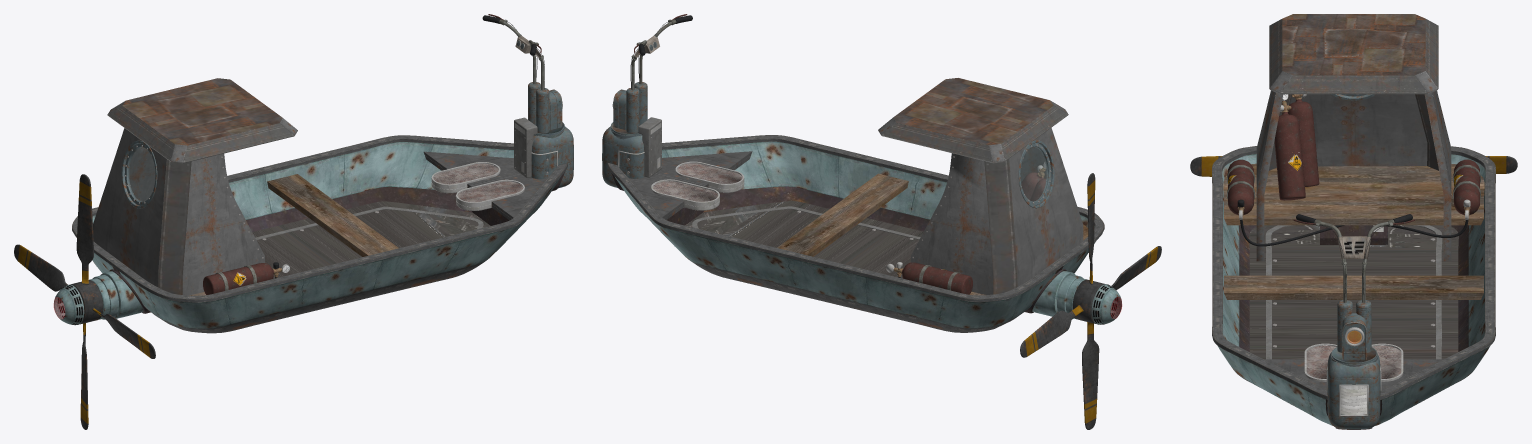
File: cargo_flying_boat.glb
3 renders of one model, left to right at view 1: azimuth 30°, elevation 25°; view 2: azimuth 150°, elevation 25°; view 3: azimuth 270°, elevation 25°, orthographic. The views are drawn at different scales.
Visible parts, largest first — view 1: KB3D_CSK_PropFlyingBoat_A_Main, KB3D_CSK_PropFlyingBoat_A_Propeller, KB3D_CSK_PropFlyingBoat_A_Handle, KB3D_CSK_PropFlyingBoat_A_Main_transparent; view 2: KB3D_CSK_PropFlyingBoat_A_Main, KB3D_CSK_PropFlyingBoat_A_Propeller, KB3D_CSK_PropFlyingBoat_A_Handle, KB3D_CSK_PropFlyingBoat_A_Main_transparent; view 3: KB3D_CSK_PropFlyingBoat_A_Main, KB3D_CSK_PropFlyingBoat_A_Handle, KB3D_CSK_PropFlyingBoat_A_Propeller.
Part boxes in pixels (left/top/right/bottom): KB3D_CSK_PropFlyingBoat_A_Main: left=54, top=78, right=573, bottom=333; KB3D_CSK_PropFlyingBoat_A_Propeller: left=14, top=174, right=155, bottom=429; KB3D_CSK_PropFlyingBoat_A_Handle: left=482, top=14, right=565, bottom=138; KB3D_CSK_PropFlyingBoat_A_Main_transparent: left=54, top=147, right=154, bottom=318; KB3D_CSK_PropFlyingBoat_A_Main: left=602, top=78, right=1121, bottom=332; KB3D_CSK_PropFlyingBoat_A_Propeller: left=1020, top=173, right=1161, bottom=429; KB3D_CSK_PropFlyingBoat_A_Handle: left=610, top=14, right=692, bottom=139; KB3D_CSK_PropFlyingBoat_A_Main_transparent: left=1020, top=147, right=1121, bottom=318; KB3D_CSK_PropFlyingBoat_A_Main: left=1212, top=14, right=1495, bottom=429; KB3D_CSK_PropFlyingBoat_A_Handle: left=1293, top=214, right=1415, bottom=366; KB3D_CSK_PropFlyingBoat_A_Propeller: left=1190, top=156, right=1517, bottom=176.
Bounding box in the file's own units: 30 × 16.41 × 14.29.
Materials: 25 (25 with a texture image).
